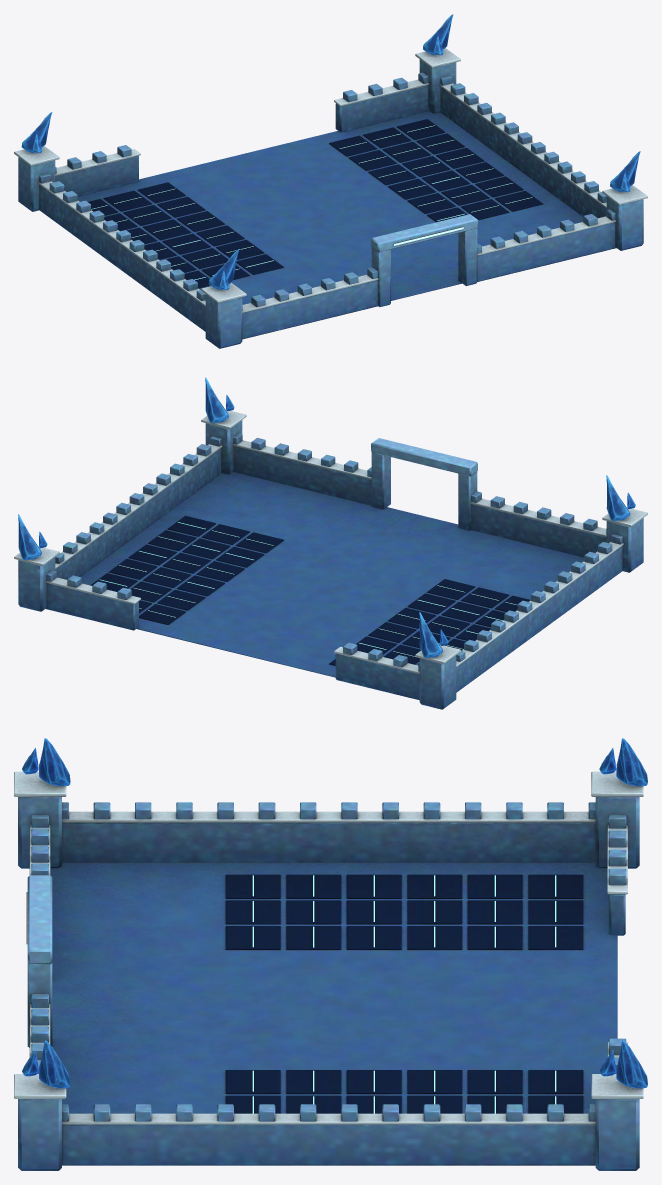
Rendered from base_frost.glb.
3 views of the same model, one above another, from view 1: azimuth 30°, elevation 25°; view 2: azimuth 150°, elevation 25°; view 3: azimuth 270°, elevation 25° (orthographic). The views are drawn at different scales.
Visible parts, largest first — view 1: base_frost; view 2: base_frost; view 3: base_frost.
Part boxes in pixels (left/top/right/bottom): base_frost: left=14, top=14, right=647, bottom=348; base_frost: left=14, top=377, right=647, bottom=709; base_frost: left=14, top=738, right=647, bottom=1170.
Size of the model in its own units: 56.12 by 10.88 by 46.11.
5 materials, 5 textured.
